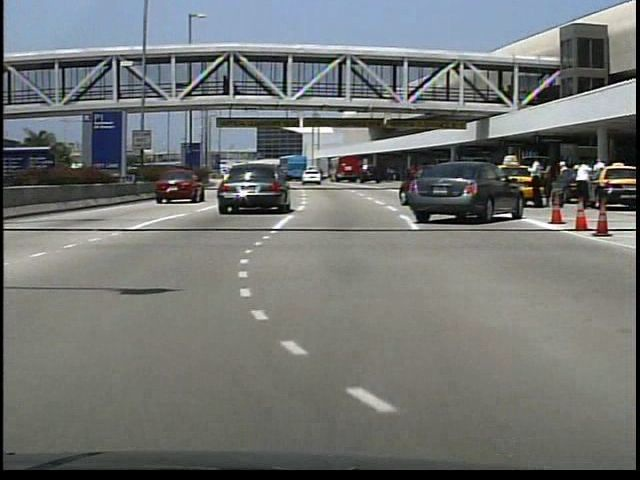person: (571, 159, 595, 211), (525, 155, 546, 213), (555, 159, 573, 207), (220, 75, 231, 99)
